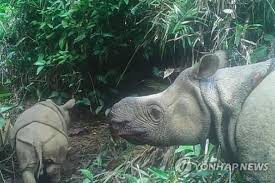Rhinoceros: (94, 42, 274, 161)
